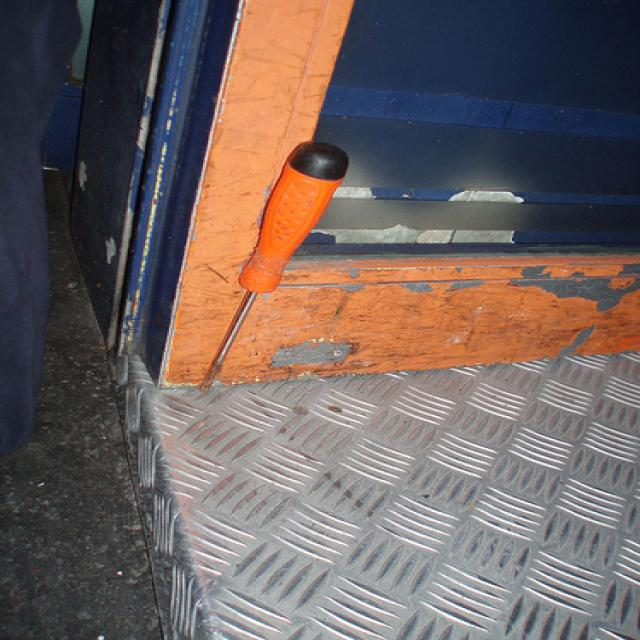screw driver: (196, 119, 358, 413)
